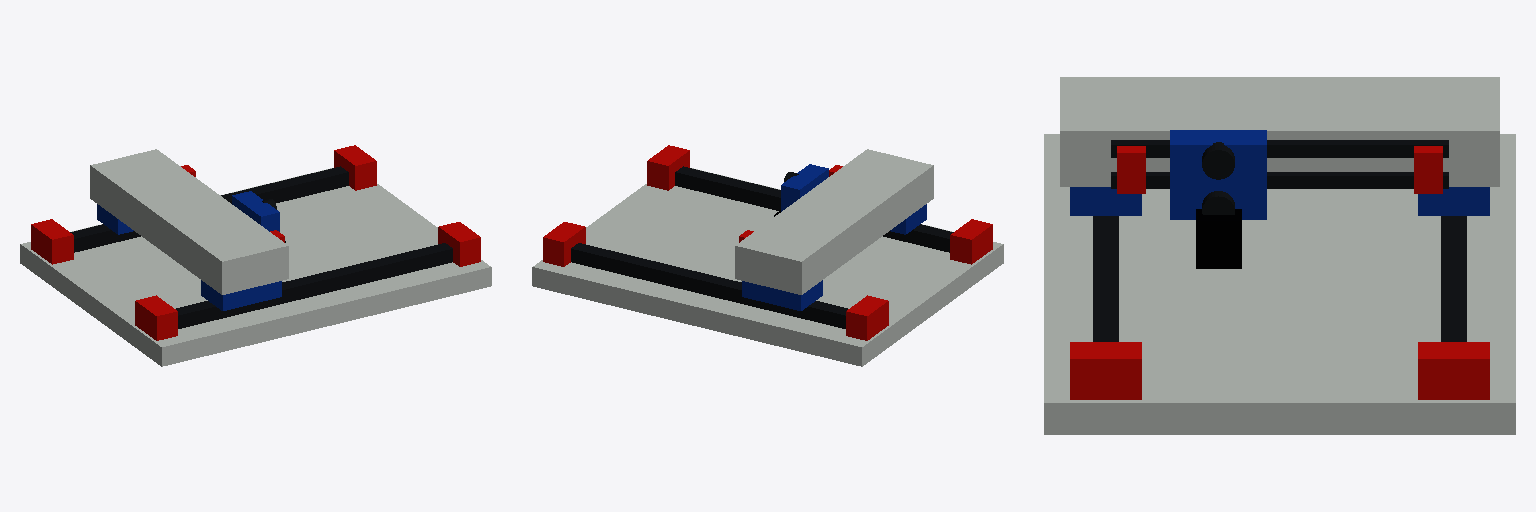
URDF robot description (wide_gantry_positioning_axis):
<robot name="wide_gantry_positioning_axis">
  <link name="base">
    <visual name="base_plate">
      <origin xyz="0 0 0.0175" rpy="0 0 0" />
      <geometry>
        <box size="0.62 0.46 0.035" />
        </geometry>
      <material name="brushed_aluminum">
        <color rgba="0.72 0.74 0.72 1" />
        </material>
      </visual>
    <visual name="rail_0">
      <origin xyz="0 -0.17 0.047" rpy="0 0 0" />
      <geometry>
        <box size="0.54 0.026 0.025" />
        </geometry>
      <material name="dark_steel">
        <color rgba="0.08 0.09 0.1 1" />
        </material>
      </visual>
    <visual name="travel_stop_0_0">
      <origin xyz="-0.285 -0.17 0.057" rpy="0 0 0" />
      <geometry>
        <box size="0.04 0.07 0.045" />
        </geometry>
      <material name="travel_stop_red">
        <color rgba="0.75 0.05 0.03 1" />
        </material>
      </visual>
    <visual name="travel_stop_0_1">
      <origin xyz="0.285 -0.17 0.057" rpy="0 0 0" />
      <geometry>
        <box size="0.04 0.07 0.045" />
        </geometry>
      <material name="travel_stop_red">
        <color rgba="0.75 0.05 0.03 1" />
        </material>
      </visual>
    <visual name="rail_1">
      <origin xyz="0 0.17 0.047" rpy="0 0 0" />
      <geometry>
        <box size="0.54 0.026 0.025" />
        </geometry>
      <material name="dark_steel">
        <color rgba="0.08 0.09 0.1 1" />
        </material>
      </visual>
    <visual name="travel_stop_1_0">
      <origin xyz="-0.285 0.17 0.057" rpy="0 0 0" />
      <geometry>
        <box size="0.04 0.07 0.045" />
        </geometry>
      <material name="travel_stop_red">
        <color rgba="0.75 0.05 0.03 1" />
        </material>
      </visual>
    <visual name="travel_stop_1_1">
      <origin xyz="0.285 0.17 0.057" rpy="0 0 0" />
      <geometry>
        <box size="0.04 0.07 0.045" />
        </geometry>
      <material name="travel_stop_red">
        <color rgba="0.75 0.05 0.03 1" />
        </material>
      </visual>
    <collision name="base_plate">
      <origin xyz="0 0 0.0175" rpy="0 0 0" />
      <geometry>
        <box size="0.62 0.46 0.035" />
        </geometry>
      </collision>
    <collision name="rail_0">
      <origin xyz="0 -0.17 0.047" rpy="0 0 0" />
      <geometry>
        <box size="0.54 0.026 0.025" />
        </geometry>
      </collision>
    <collision name="travel_stop_0_0">
      <origin xyz="-0.285 -0.17 0.057" rpy="0 0 0" />
      <geometry>
        <box size="0.04 0.07 0.045" />
        </geometry>
      </collision>
    <collision name="travel_stop_0_1">
      <origin xyz="0.285 -0.17 0.057" rpy="0 0 0" />
      <geometry>
        <box size="0.04 0.07 0.045" />
        </geometry>
      </collision>
    <collision name="rail_1">
      <origin xyz="0 0.17 0.047" rpy="0 0 0" />
      <geometry>
        <box size="0.54 0.026 0.025" />
        </geometry>
      </collision>
    <collision name="travel_stop_1_0">
      <origin xyz="-0.285 0.17 0.057" rpy="0 0 0" />
      <geometry>
        <box size="0.04 0.07 0.045" />
        </geometry>
      </collision>
    <collision name="travel_stop_1_1">
      <origin xyz="0.285 0.17 0.057" rpy="0 0 0" />
      <geometry>
        <box size="0.04 0.07 0.045" />
        </geometry>
      </collision>
    </link>
  <link name="gantry">
    <visual name="saddle_0">
      <origin xyz="0 -0.17 0" rpy="0 0 0" />
      <geometry>
        <box size="0.112 0.07 0.035" />
        </geometry>
      <material name="blue_anodized_carriage">
        <color rgba="0.05 0.2 0.55 1" />
        </material>
      </visual>
    <visual name="saddle_1">
      <origin xyz="0 0.17 0" rpy="0 0 0" />
      <geometry>
        <box size="0.112 0.07 0.035" />
        </geometry>
      <material name="blue_anodized_carriage">
        <color rgba="0.05 0.2 0.55 1" />
        </material>
      </visual>
    <visual name="crossbeam">
      <origin xyz="0 0 0.047" rpy="0 0 0" />
      <geometry>
        <box size="0.125 0.43 0.06" />
        </geometry>
      <material name="brushed_aluminum">
        <color rgba="0.72 0.74 0.72 1" />
        </material>
      </visual>
    <visual name="front_guide">
      <origin xyz="0.0675 0 0.06" rpy="0 0 0" />
      <geometry>
        <box size="0.01 0.33 0.014" />
        </geometry>
      <material name="dark_steel">
        <color rgba="0.08 0.09 0.1 1" />
        </material>
      </visual>
    <visual name="lower_guide">
      <origin xyz="0.0675 0 0.026" rpy="0 0 0" />
      <geometry>
        <box size="0.01 0.33 0.014" />
        </geometry>
      <material name="dark_steel">
        <color rgba="0.08 0.09 0.1 1" />
        </material>
      </visual>
    <visual name="truck_stop_0">
      <origin xyz="0.073 -0.145 0.043" rpy="0 0 0" />
      <geometry>
        <box size="0.03 0.028 0.045" />
        </geometry>
      <material name="travel_stop_red">
        <color rgba="0.75 0.05 0.03 1" />
        </material>
      </visual>
    <visual name="truck_stop_1">
      <origin xyz="0.073 0.145 0.043" rpy="0 0 0" />
      <geometry>
        <box size="0.03 0.028 0.045" />
        </geometry>
      <material name="travel_stop_red">
        <color rgba="0.75 0.05 0.03 1" />
        </material>
      </visual>
    <collision name="saddle_0">
      <origin xyz="0 -0.17 0" rpy="0 0 0" />
      <geometry>
        <box size="0.112 0.07 0.035" />
        </geometry>
      </collision>
    <collision name="saddle_1">
      <origin xyz="0 0.17 0" rpy="0 0 0" />
      <geometry>
        <box size="0.112 0.07 0.035" />
        </geometry>
      </collision>
    <collision name="crossbeam">
      <origin xyz="0 0 0.047" rpy="0 0 0" />
      <geometry>
        <box size="0.125 0.43 0.06" />
        </geometry>
      </collision>
    <collision name="front_guide">
      <origin xyz="0.0675 0 0.06" rpy="0 0 0" />
      <geometry>
        <box size="0.01 0.33 0.014" />
        </geometry>
      </collision>
    <collision name="lower_guide">
      <origin xyz="0.0675 0 0.026" rpy="0 0 0" />
      <geometry>
        <box size="0.01 0.33 0.014" />
        </geometry>
      </collision>
    <collision name="truck_stop_0">
      <origin xyz="0.073 -0.145 0.043" rpy="0 0 0" />
      <geometry>
        <box size="0.03 0.028 0.045" />
        </geometry>
      </collision>
    <collision name="truck_stop_1">
      <origin xyz="0.073 0.145 0.043" rpy="0 0 0" />
      <geometry>
        <box size="0.03 0.028 0.045" />
        </geometry>
      </collision>
    </link>
  <link name="tool_truck">
    <visual name="truck_plate">
      <origin xyz="0.018 0 0" rpy="0 0 0" />
      <geometry>
        <box size="0.036 0.095 0.08" />
        </geometry>
      <material name="blue_anodized_carriage">
        <color rgba="0.05 0.2 0.55 1" />
        </material>
      </visual>
    <visual name="roller_0">
      <origin xyz="0.04 0 -0.025" rpy="0 1.5708 0" />
      <geometry>
        <cylinder radius="0.016" length="0.018" />
        </geometry>
      <material name="dark_steel">
        <color rgba="0.08 0.09 0.1 1" />
        </material>
      </visual>
    <visual name="roller_1">
      <origin xyz="0.04 0 0.025" rpy="0 1.5708 0" />
      <geometry>
        <cylinder radius="0.016" length="0.018" />
        </geometry>
      <material name="dark_steel">
        <color rgba="0.08 0.09 0.1 1" />
        </material>
      </visual>
    <visual name="tool_holder">
      <origin xyz="0.047 0 -0.055" rpy="0 0 0" />
      <geometry>
        <box size="0.03 0.045 0.052" />
        </geometry>
      <material name="black_tooling">
        <color rgba="0.01 0.01 0.012 1" />
        </material>
      </visual>
    <visual name="tool_bit">
      <origin xyz="0.047 0 -0.073" rpy="0 0 0" />
      <geometry>
        <cylinder radius="0.007" length="0.02" />
        </geometry>
      <material name="dark_steel">
        <color rgba="0.08 0.09 0.1 1" />
        </material>
      </visual>
    <collision name="truck_plate">
      <origin xyz="0.018 0 0" rpy="0 0 0" />
      <geometry>
        <box size="0.036 0.095 0.08" />
        </geometry>
      </collision>
    <collision name="roller_0">
      <origin xyz="0.04 0 -0.025" rpy="0 1.5708 0" />
      <geometry>
        <cylinder radius="0.016" length="0.018" />
        </geometry>
      </collision>
    <collision name="roller_1">
      <origin xyz="0.04 0 0.025" rpy="0 1.5708 0" />
      <geometry>
        <cylinder radius="0.016" length="0.018" />
        </geometry>
      </collision>
    <collision name="tool_holder">
      <origin xyz="0.047 0 -0.055" rpy="0 0 0" />
      <geometry>
        <box size="0.03 0.045 0.052" />
        </geometry>
      </collision>
    <collision name="tool_bit">
      <origin xyz="0.047 0 -0.073" rpy="0 0 0" />
      <geometry>
        <cylinder radius="0.007" length="0.02" />
        </geometry>
      </collision>
    </link>
  <joint name="base_to_gantry" type="prismatic">
    <origin xyz="-0.125 0 0.077" rpy="0 0 0" />
    <parent link="base" />
    <child link="gantry" />
    <axis xyz="1 0 0" />
    <limit effort="180" velocity="0.45" lower="0" upper="0.25" />
    </joint>
  <joint name="gantry_to_truck" type="prismatic">
    <origin xyz="0.0725 -0.06 0.043" rpy="0 0 0" />
    <parent link="gantry" />
    <child link="tool_truck" />
    <axis xyz="0 1 0" />
    <limit effort="60" velocity="0.35" lower="0" upper="0.12" />
    </joint>
  </robot>

--- Render facts (derived) ---
3 views of the same robot in one strip: view 1: azimuth 30°, elevation 25°; view 2: azimuth 150°, elevation 25°; view 3: azimuth 270°, elevation 25° (orthographic).
Robot: wide_gantry_positioning_axis — 3 links, 2 joints (2 prismatic); root link base; default pose: all joints at 0.
Visible links, largest first — view 1: base, gantry, tool_truck; view 2: base, gantry, tool_truck; view 3: base, gantry, tool_truck.
Boxes of the visible links, box(x1,y1,x2,y2) form: base: box(20, 145, 491, 366); gantry: box(90, 149, 288, 310); tool_truck: box(232, 191, 285, 242); base: box(532, 145, 1003, 366); gantry: box(735, 149, 933, 310); tool_truck: box(774, 164, 828, 216); base: box(1044, 134, 1515, 434); gantry: box(1060, 77, 1499, 215); tool_truck: box(1170, 130, 1266, 268).
Bounding box of the posed robot: 0.62 × 0.46 × 0.161 m (x, y, z).
Geometry: primitives only (box / cylinder / sphere), no mesh files.
